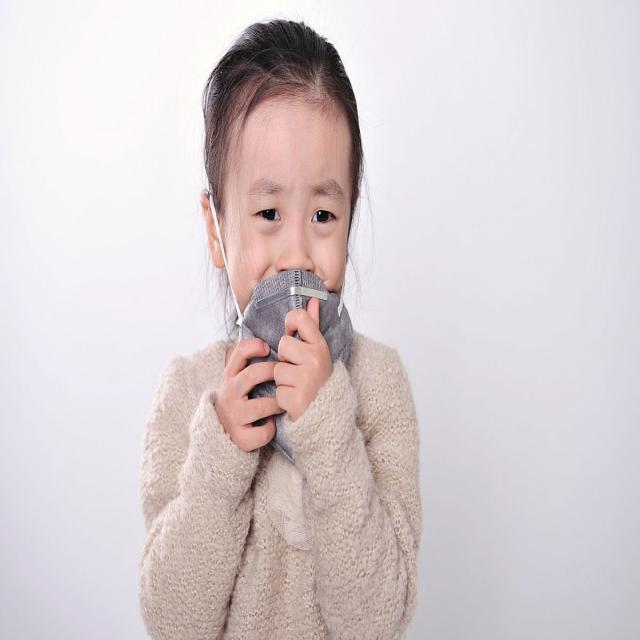mask: (222, 97, 354, 351)
